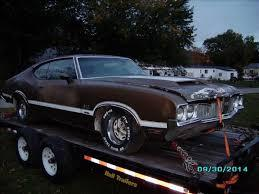Bonnet: (85, 73, 242, 103)
Bumper: (167, 109, 242, 138)
